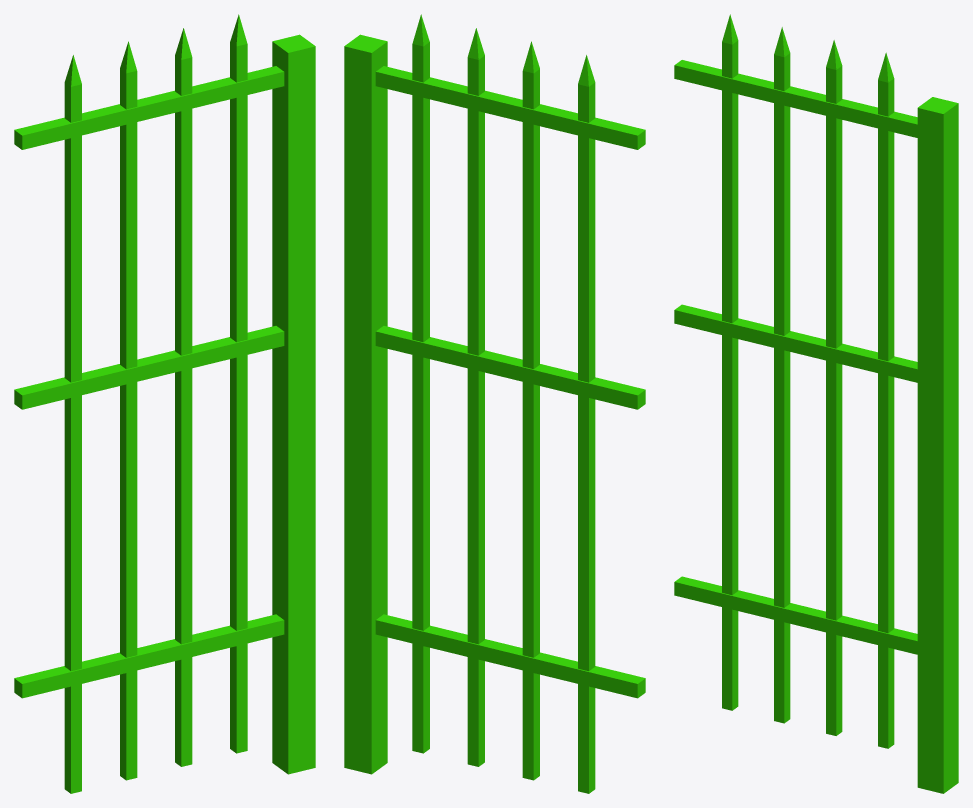
The model's file is fence3_04.fbx.
3 views of the same model, side by side, from view 1: azimuth 30°, elevation 25°; view 2: azimuth 150°, elevation 25°; view 3: azimuth 330°, elevation 25° (orthographic). The views are drawn at different scales.
Parts seen in each view (by area): view 1: fence3_04; view 2: fence3_04; view 3: fence3_04.
Boxes of the visible parts, box(x1,y1,x2,y2) form: fence3_04: box(14, 14, 315, 793); fence3_04: box(344, 14, 645, 793); fence3_04: box(674, 14, 958, 793).
Size of the model in its own units: 105 by 265 by 10.
